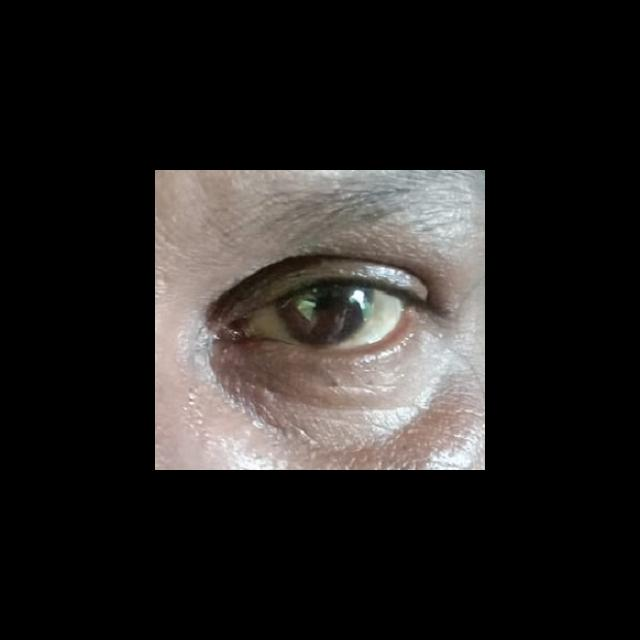eye: (248, 282, 403, 350)
iris: (276, 285, 376, 344)
